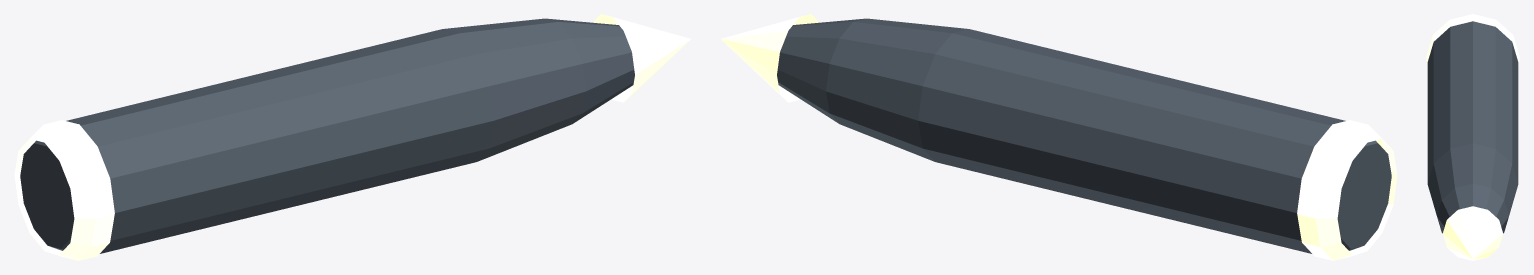
The model's file is rocket.glb.
3 views of the same model, side by side, from view 1: azimuth 30°, elevation 25°; view 2: azimuth 150°, elevation 25°; view 3: azimuth 270°, elevation 25° (orthographic). The views are drawn at different scales.
Visible parts, largest first — view 1: Projectile / tapered copper-alloy jacket.032, Projectile / rear tracer compound.032, Projectile / luminous nose.032; view 2: Projectile / tapered copper-alloy jacket.032, Projectile / rear tracer compound.032, Projectile / luminous nose.032; view 3: Projectile / tapered copper-alloy jacket.032, Projectile / luminous nose.032, Projectile / rear tracer compound.032.
Boxes of the visible parts, bbox=[...] form: Projectile / tapered copper-alloy jacket.032: bbox=[20, 18, 634, 253]; Projectile / rear tracer compound.032: bbox=[14, 120, 114, 260]; Projectile / luminous nose.032: bbox=[593, 14, 690, 102]; Projectile / tapered copper-alloy jacket.032: bbox=[777, 18, 1391, 253]; Projectile / rear tracer compound.032: bbox=[1297, 120, 1397, 260]; Projectile / luminous nose.032: bbox=[721, 14, 818, 102]; Projectile / tapered copper-alloy jacket.032: bbox=[1427, 21, 1518, 233]; Projectile / luminous nose.032: bbox=[1442, 206, 1503, 260]; Projectile / rear tracer compound.032: bbox=[1426, 14, 1519, 65].
Bounding box in the file's own units: 0.424 × 0.08 × 0.08.
